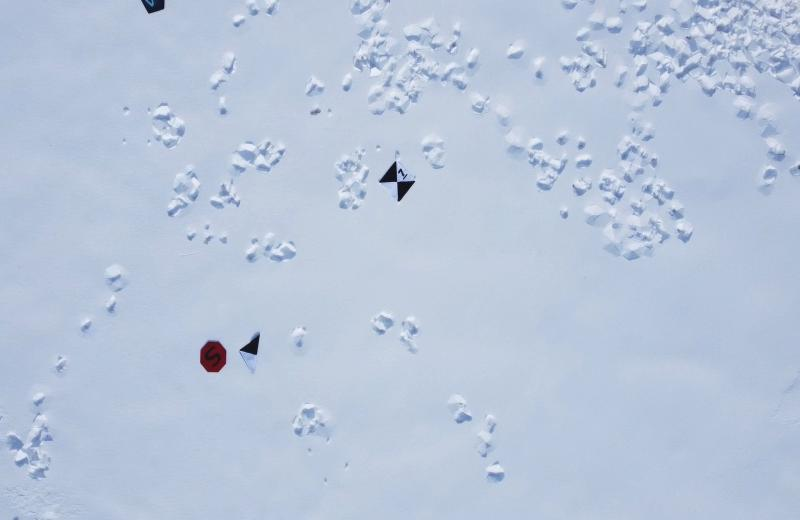Octagon: (196, 337, 229, 380)
Pentagon: (137, 0, 169, 18)
